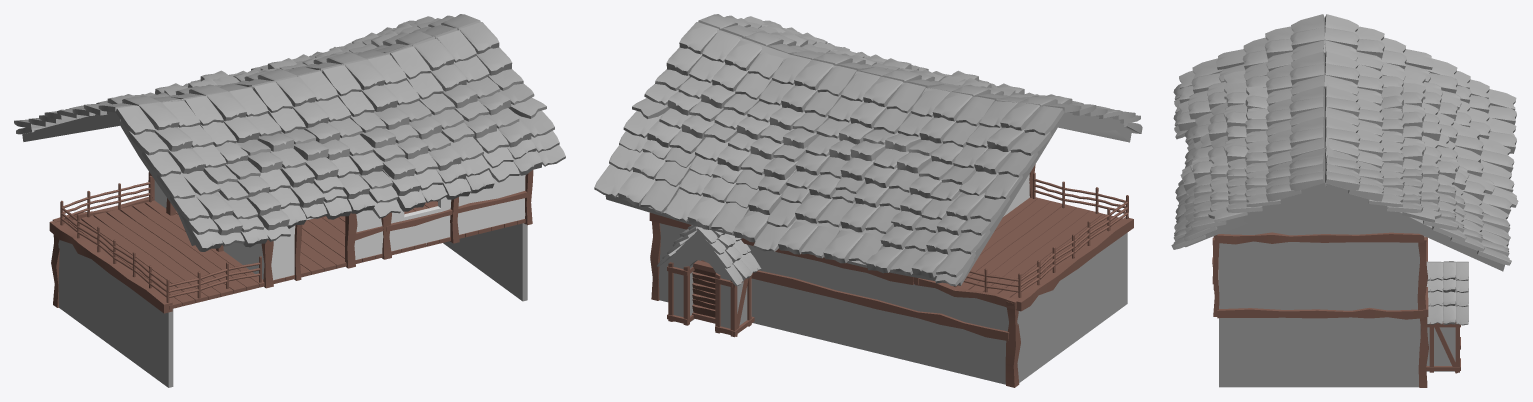
3 views of the same model, side by side, from view 1: azimuth 30°, elevation 25°; view 2: azimuth 150°, elevation 25°; view 3: azimuth 270°, elevation 25° (orthographic). The views are drawn at different scales.
Visible parts, largest first — view 1: SM_B01_Wall_08, SM_B01_Wall_01, SM_B01_Wall_09, SM_B01_Wood_54, SM_B01_Roof_01, SM_B01_Wood_10, SM_B01_Wood_11, SM_B01_Wood_09, SM_B01_Wood_06, SM_B01_Wood_12, SM_B01_Wood_39, SM_B01_Wall_02 (+74 smaller); view 2: SM_B01_Wall_06, SM_B01_Wall_08, SM_B01_Wall_07, SM_B01_Wood_56, SM_B01_Roof_01, SM_B01_Wood_54, SM_B01_Wood_11, SM_B01_Wood_09, SM_B01_Wood_06, SM_B01_Roof_02, SM_B01_Wood_10, SM_B01_Wood_50 (+105 smaller); view 3: SM_B01_Wall_09, SM_B01_Wall_04, SM_B01_Wall_10, SM_B01_Roof_01, SM_B01_Wood_47, SM_B01_Wood_49, SM_B01_Roof_02, SM_B01_Wall_07, SM_B01_Wood_52, SM_B01_Wood_48, SM_B01_Tile_05, SM_B01_Tile_25 (+70 smaller).
Part boxes in pixels (box(x1,y1,x2,y2)): SM_B01_Wall_08: box(58, 239, 173, 387); SM_B01_Wall_01: box(271, 175, 525, 280); SM_B01_Wall_09: box(443, 223, 527, 301); SM_B01_Wood_54: box(49, 221, 172, 313); SM_B01_Roof_01: box(22, 27, 458, 141); SM_B01_Wood_10: box(120, 206, 246, 293); SM_B01_Wood_11: box(106, 209, 233, 296); SM_B01_Wood_09: box(93, 212, 220, 299); SM_B01_Wood_06: box(81, 215, 207, 303); SM_B01_Wood_12: box(132, 203, 259, 290); SM_B01_Wood_39: box(386, 191, 528, 231); SM_B01_Wall_02: box(154, 180, 264, 279); SM_B01_Wall_06: box(659, 223, 1008, 384); SM_B01_Wall_08: box(1017, 232, 1127, 382); SM_B01_Wall_07: box(671, 231, 751, 334); SM_B01_Wood_56: box(751, 270, 1009, 340); SM_B01_Roof_01: box(605, 24, 1057, 285); SM_B01_Wood_54: box(1014, 217, 1133, 311); SM_B01_Wood_11: box(956, 204, 1076, 289); SM_B01_Wood_09: box(970, 207, 1089, 291); SM_B01_Wood_06: box(984, 210, 1102, 293); SM_B01_Roof_02: box(1057, 112, 1131, 142); SM_B01_Wood_10: box(944, 201, 1062, 286); SM_B01_Wood_50: box(649, 212, 913, 284); SM_B01_Wall_09: box(1219, 317, 1420, 387); SM_B01_Wall_04: box(1219, 241, 1419, 310); SM_B01_Wall_10: box(1220, 183, 1418, 235); SM_B01_Roof_01: box(1326, 81, 1504, 271); SM_B01_Wood_47: box(1217, 232, 1424, 244); SM_B01_Wood_49: box(1217, 307, 1424, 319); SM_B01_Roof_02: box(1185, 89, 1326, 247); SM_B01_Wall_07: box(1426, 304, 1455, 371); SM_B01_Wood_52: box(1418, 317, 1428, 387); SM_B01_Wood_48: box(1417, 237, 1427, 310); SM_B01_Tile_05: box(1290, 27, 1324, 49); SM_B01_Tile_25: box(1289, 171, 1324, 191).
Size of the model in its own units: 14.39 by 8.5 by 12.33.
